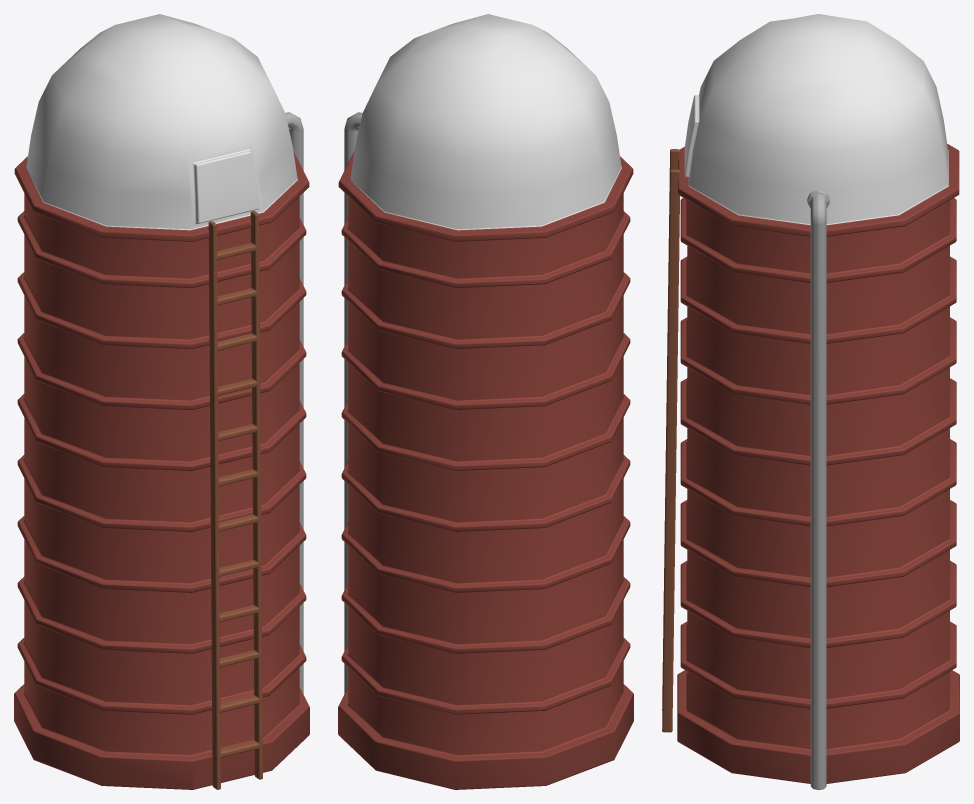
Rendered from Silo.glb.
The picture shows the model from 3 angles, left to right: view 1: azimuth 30°, elevation 25°; view 2: azimuth 150°, elevation 25°; view 3: azimuth 270°, elevation 25°; orthographic projection.
Visible parts, largest first — view 1: Silo; view 2: Silo; view 3: Silo.
Part boxes in pixels (x1,y1,x2,y2): Silo: (14,14,309,789); Silo: (338,14,633,789); Silo: (662,14,959,789).
Size of the model in its own units: 3.66 by 9.07 by 3.51.
